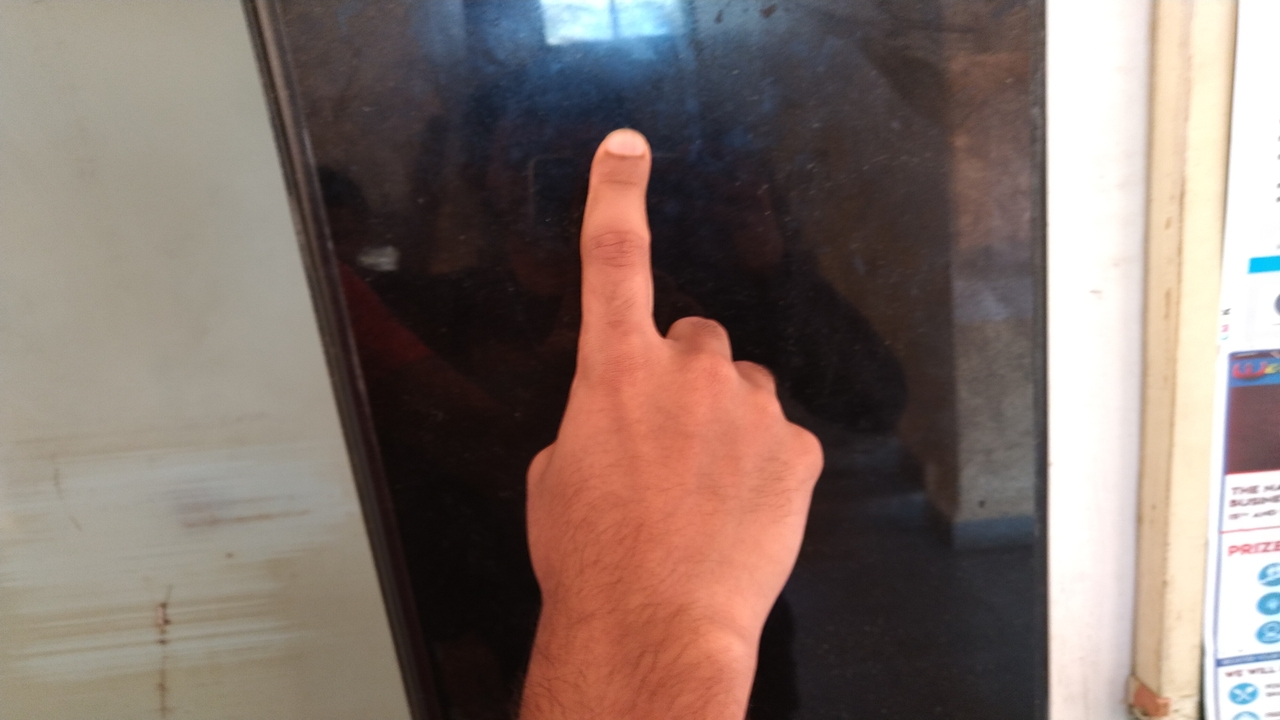fingertip: (584, 122, 656, 182)
